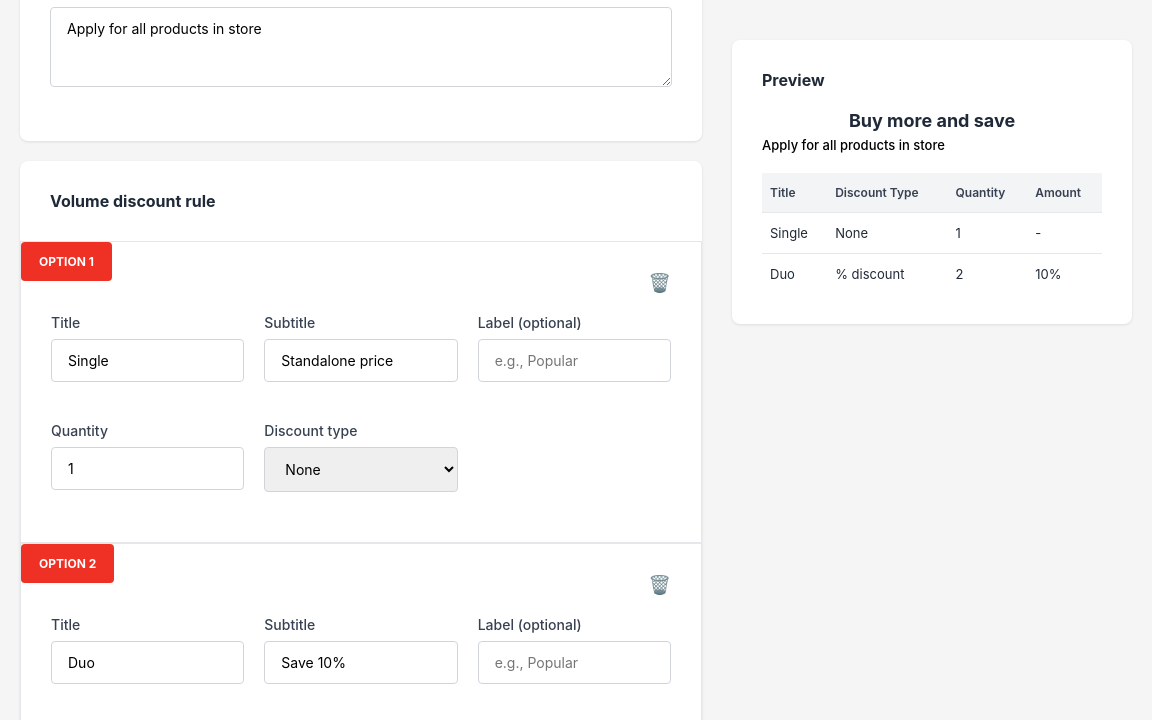
VolumeDiscountForm Component › Form Validation › shows error when option title is empty
The image size is (1152, 720).
(page scrolled)
Clear the 1st field with placeholder "Single, Duo, etc." at (148, 360), box [51,339,244,382]
(page scrolled)
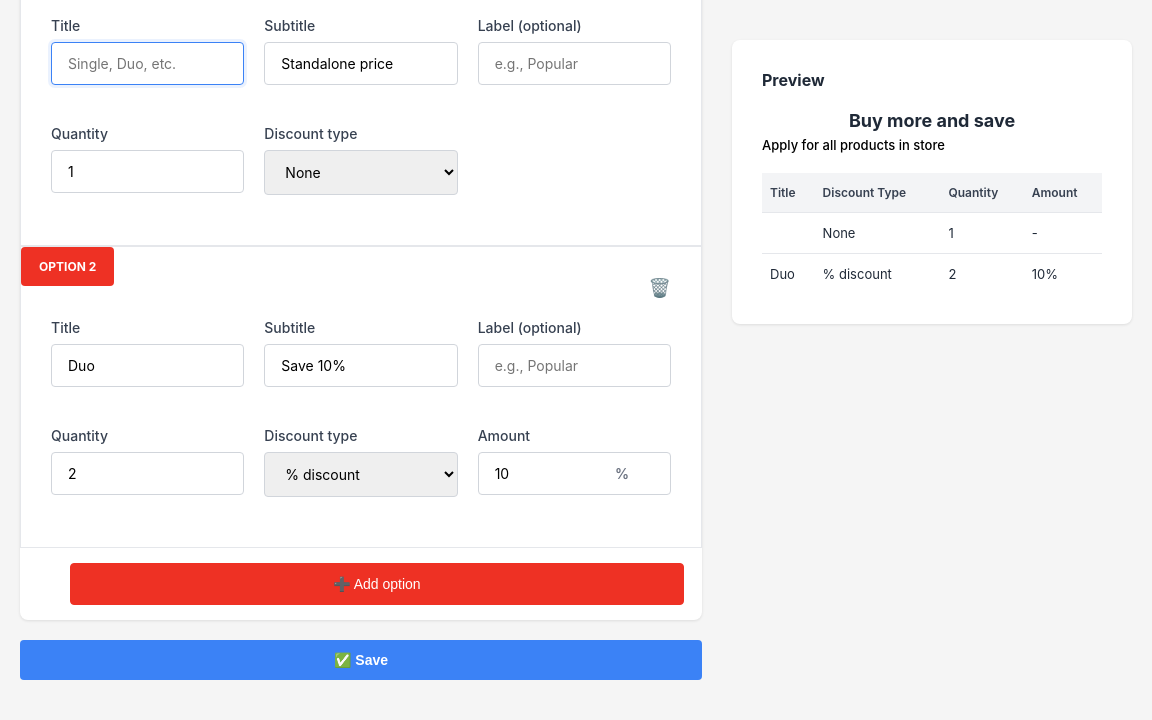
Click the button "✅ Save" at (361, 660), box [20,640,702,680]
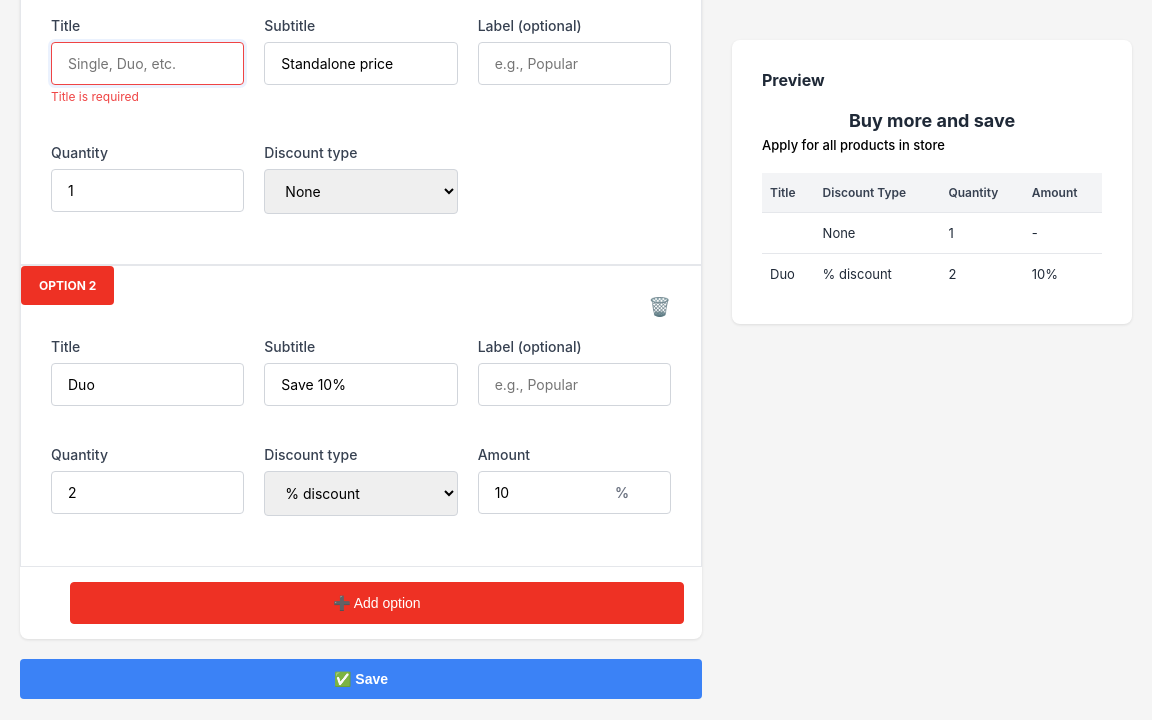
Expected: the text "Title is required" is shown, [51,89,139,104]
